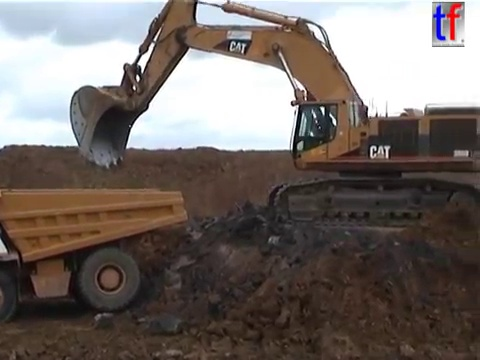excavator: (65, 1, 480, 232)
truck: (1, 184, 189, 325)
